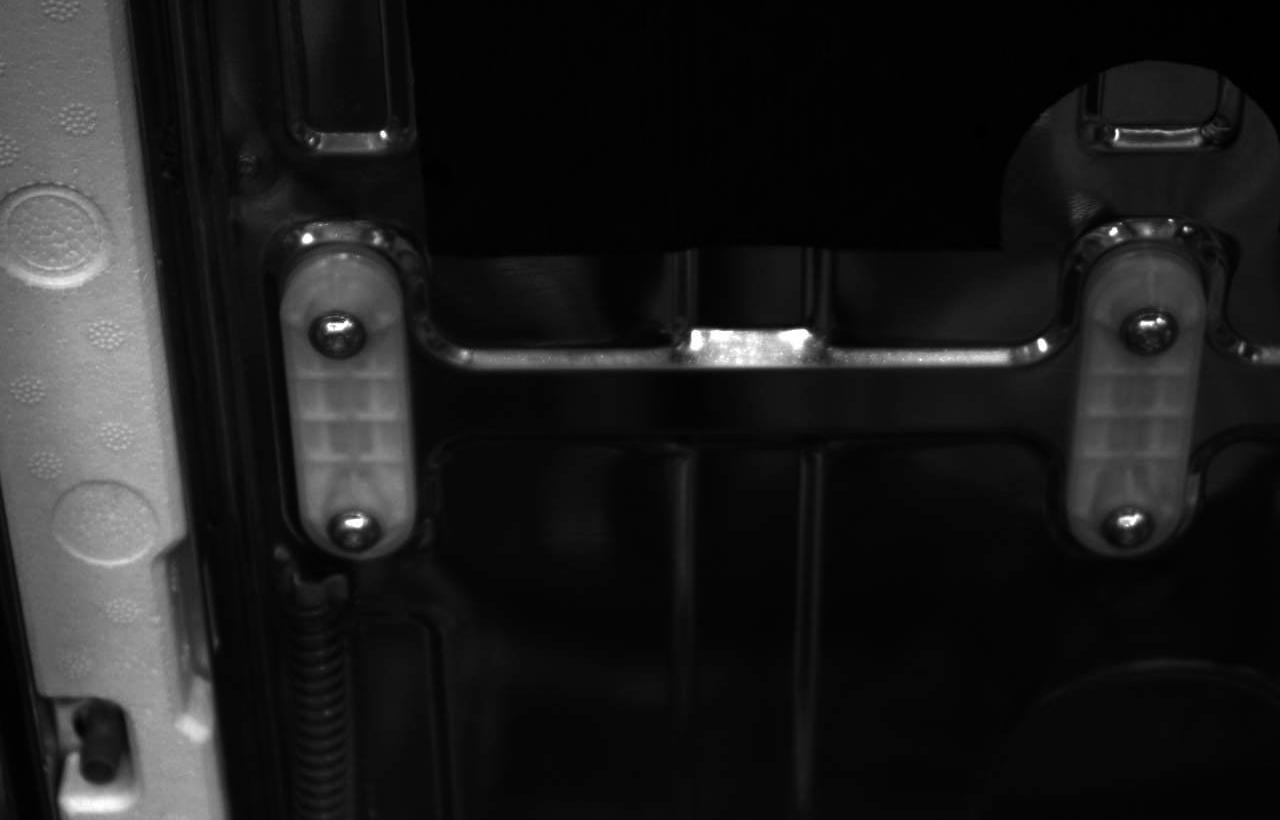vida-ok: (299, 299, 370, 367), (1117, 298, 1184, 365), (1096, 487, 1161, 555), (321, 497, 387, 555)
